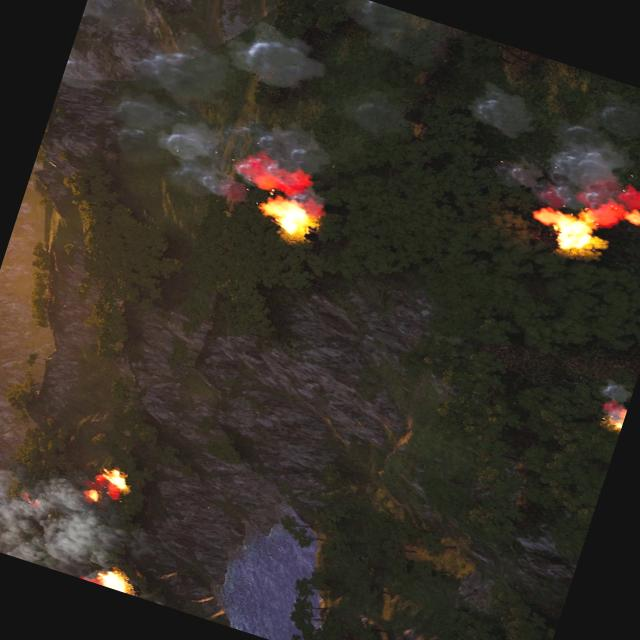fire: (529, 197, 607, 260), (254, 190, 320, 242), (94, 566, 136, 594), (98, 464, 134, 492), (82, 488, 101, 503)
smoke: (97, 39, 356, 228), (443, 59, 640, 244), (0, 445, 159, 595), (592, 375, 636, 430)
